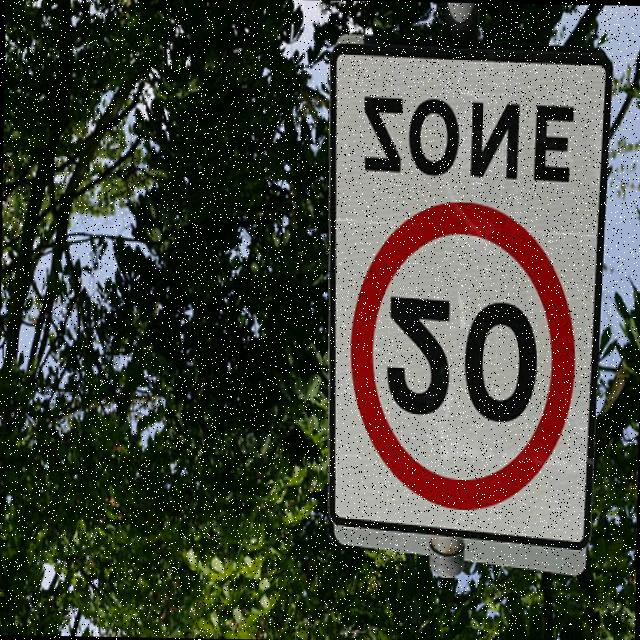speed_limit_20: (346, 194, 584, 519)
